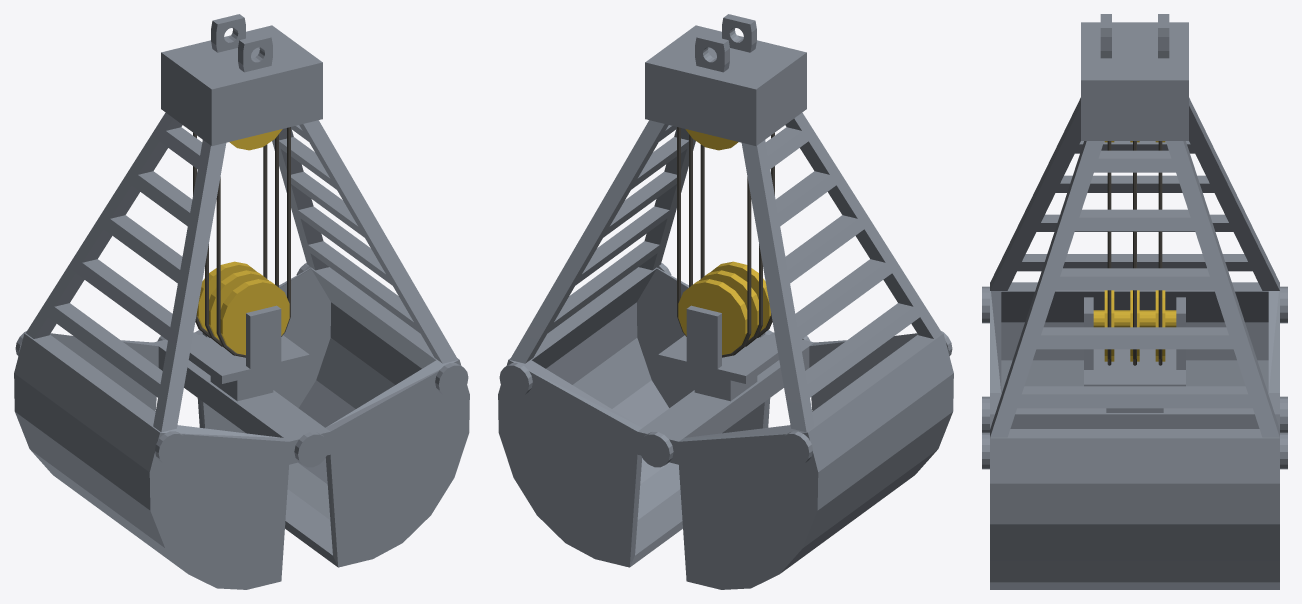
The picture shows the model from 3 angles, left to right: view 1: azimuth 30°, elevation 25°; view 2: azimuth 150°, elevation 25°; view 3: azimuth 270°, elevation 25°; orthographic projection. The views are drawn at different scales.
Visible parts, largest first — view 1: Left_thick_concave_jaw, Right_thick_concave_jaw, Left_two_link_cross_tied_frame, Rectangular_upper_head, Right_two_link_cross_tied_frame, Common_lower_hinge_beam, Lower_block_open_yoke, Lower_three_sheave_axle, Front_visible_closing_rope, Front_upper_lifting_lug, Lower_block_pedestal, Rear_upper_lifting_lug (+5 smaller); view 2: Left_thick_concave_jaw, Right_thick_concave_jaw, Left_two_link_cross_tied_frame, Rectangular_upper_head, Right_two_link_cross_tied_frame, Common_lower_hinge_beam, Lower_block_open_yoke, Lower_three_sheave_axle, Rear_visible_closing_rope, Rear_upper_lifting_lug, Lower_block_pedestal, Front_upper_lifting_lug (+5 smaller); view 3: Right_thick_concave_jaw, Right_two_link_cross_tied_frame, Left_thick_concave_jaw, Left_two_link_cross_tied_frame, Rectangular_upper_head, Common_lower_hinge_beam, Lower_block_open_yoke, Lower_three_sheave_axle, Front_visible_closing_rope, Rear_visible_closing_rope, Center_visible_closing_rope, Front_upper_lifting_lug (+1 smaller).
Boxes of the visible parts, <box> form: Left_thick_concave_jaw: <box>14,333,289,589</box>; Right_thick_concave_jaw: <box>195,267,469,567</box>; Left_two_link_cross_tied_frame: <box>26,112,226,432</box>; Rectangular_upper_head: <box>161,25,322,145</box>; Right_two_link_cross_tied_frame: <box>272,120,457,363</box>; Common_lower_hinge_beam: <box>154,332,330,464</box>; Lower_block_open_yoke: <box>188,305,309,383</box>; Lower_three_sheave_axle: <box>197,261,289,354</box>; Front_visible_closing_rope: <box>216,127,290,357</box>; Front_upper_lifting_lug: <box>238,33,272,72</box>; Lower_block_pedestal: <box>210,372,273,401</box>; Rear_upper_lifting_lug: <box>211,14,245,52</box>; Left_thick_concave_jaw: <box>678,333,953,589</box>; Right_thick_concave_jaw: <box>498,267,772,567</box>; Left_two_link_cross_tied_frame: <box>741,112,941,432</box>; Rectangular_upper_head: <box>645,25,806,145</box>; Right_two_link_cross_tied_frame: <box>510,120,695,363</box>; Common_lower_hinge_beam: <box>637,332,813,464</box>; Lower_block_open_yoke: <box>658,305,779,383</box>; Lower_three_sheave_axle: <box>678,261,770,354</box>; Rear_visible_closing_rope: <box>677,127,751,357</box>; Rear_upper_lifting_lug: <box>695,33,729,72</box>; Lower_block_pedestal: <box>694,372,757,401</box>; Front_upper_lifting_lug: <box>722,14,756,52</box>; Right_thick_concave_jaw: <box>990,414,1279,589</box>; Right_two_link_cross_tied_frame: <box>990,141,1279,437</box>; Left_thick_concave_jaw: <box>990,282,1279,392</box>; Left_two_link_cross_tied_frame: <box>990,97,1279,290</box>; Rectangular_upper_head: <box>1081,22,1188,140</box>; Common_lower_hinge_beam: <box>990,393,1279,428</box>; Lower_block_open_yoke: <box>1084,297,1185,386</box>; Lower_three_sheave_axle: <box>1093,290,1176,361</box>; Front_visible_closing_rope: <box>1107,141,1111,365</box>; Rear_visible_closing_rope: <box>1158,141,1162,365</box>; Center_visible_closing_rope: <box>1133,141,1136,365</box>; Front_upper_lifting_lug: <box>1100,14,1111,58</box>.
Size of the model in its own units: 2.48 by 3.67 by 1.92.
